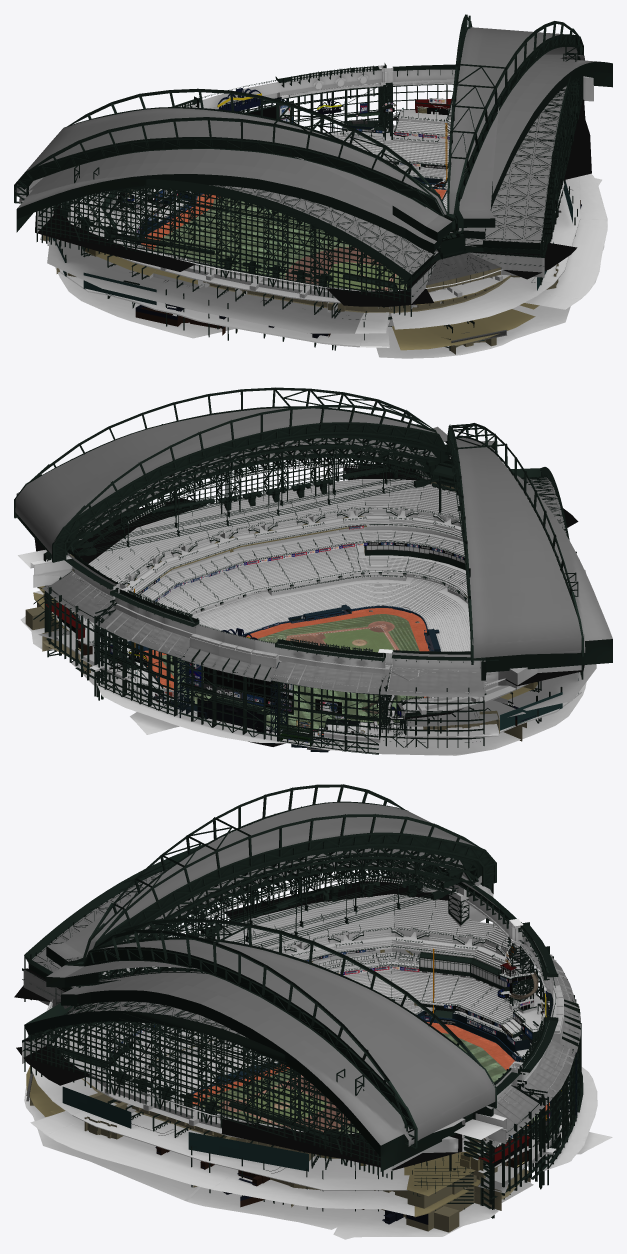
The model's file is MIL-optimized.glb.
3 renders of one model, top to bottom at view 1: azimuth 30°, elevation 25°; view 2: azimuth 150°, elevation 25°; view 3: azimuth 270°, elevation 25°, orthographic. The views are drawn at different scales.
Parts seen in each view (by area): view 1: Stadium_MIL; view 2: Stadium_MIL; view 3: Stadium_MIL.
Boxes of the visible parts, x1,y1,x2,y2 form: Stadium_MIL: (14, 14, 612, 358); Stadium_MIL: (14, 387, 612, 755); Stadium_MIL: (14, 784, 612, 1239).
Size of the model in its own units: 284 by 95.74 by 224.
4 materials, 4 textured.
